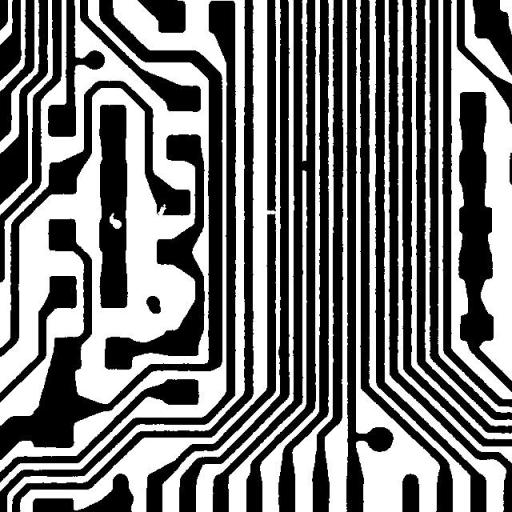copper: (138, 288, 168, 321)
mousebite: (146, 196, 174, 226)
open: (256, 202, 284, 222)
pin-hole: (102, 205, 128, 236)
short: (292, 153, 318, 178)
